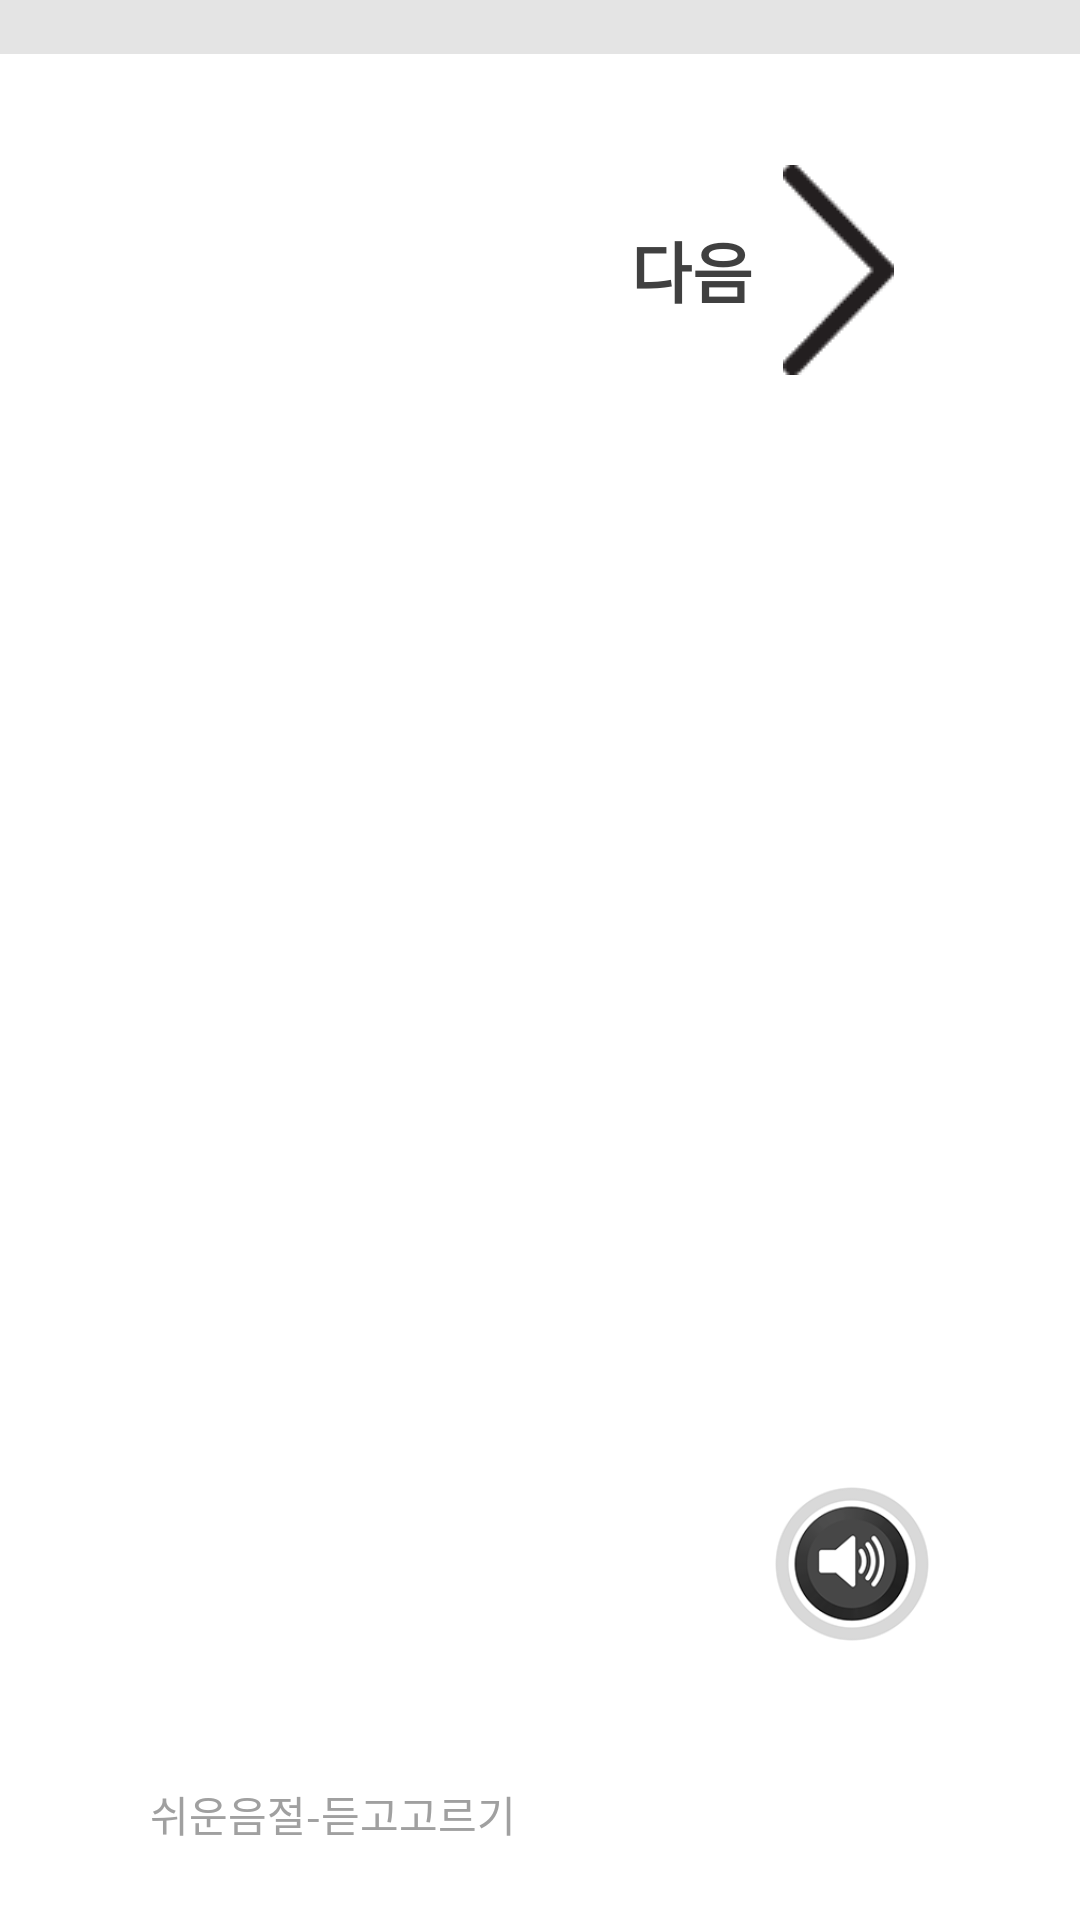

Icons on this 1080 x 1920 Android screen, each with its box as {"left": x1, "top": y1, "right": x2, "bottom": y2}:
playbutton: {"left": 776, "top": 1488, "right": 928, "bottom": 1640}
